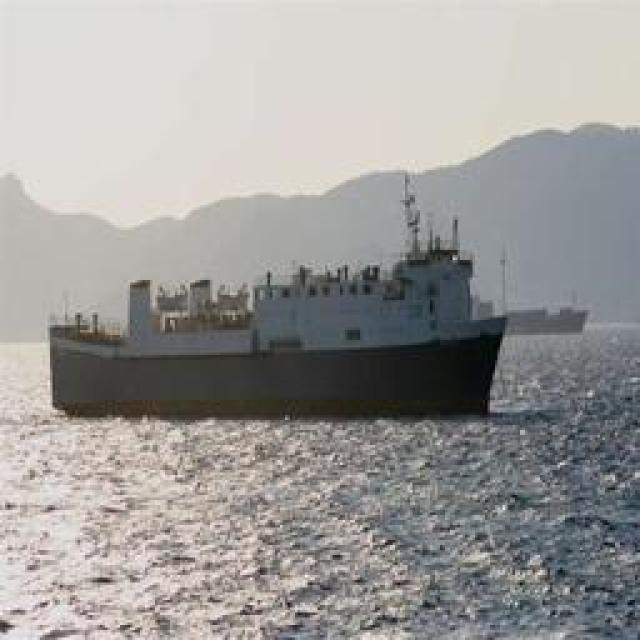ship: (48, 176, 522, 412)
